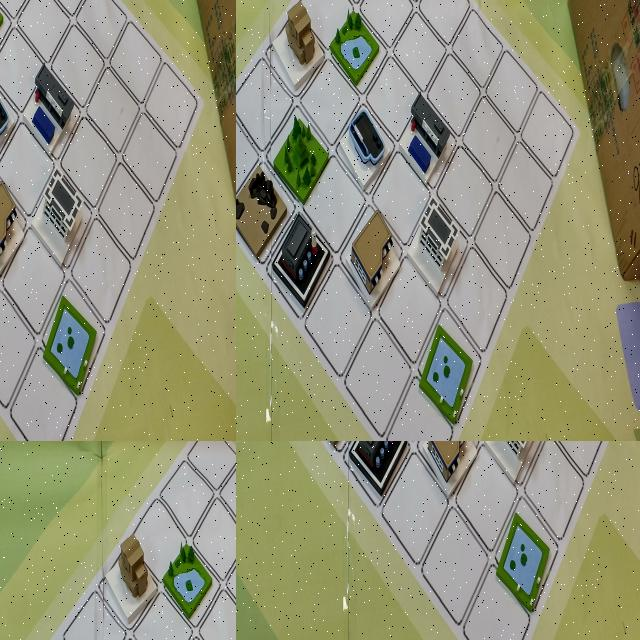bus_stop: (339, 92, 390, 181), (0, 3, 36, 110), (475, 441, 535, 488)
factory: (318, 304, 374, 401), (349, 441, 408, 501), (97, 578, 144, 640), (0, 361, 30, 441)
fish_pool: (496, 510, 555, 619), (97, 25, 153, 115), (418, 258, 469, 347)
forest: (126, 248, 180, 346), (343, 441, 405, 487), (315, 0, 371, 50)
gogo_shop: (365, 148, 414, 243), (0, 119, 41, 214), (412, 441, 475, 493)
research_build: (40, 108, 103, 210), (454, 204, 507, 299), (482, 441, 547, 494)
restaurant: (102, 112, 164, 214), (298, 141, 353, 236), (422, 441, 486, 491)
silicate_rock: (401, 7, 452, 92), (0, 340, 41, 441), (145, 544, 191, 623), (298, 441, 364, 495)
volunteer_center: (98, 339, 160, 434), (394, 103, 445, 189), (194, 552, 236, 631), (342, 441, 403, 491)
wet_land: (357, 244, 414, 340), (0, 306, 30, 401), (403, 441, 460, 484)
